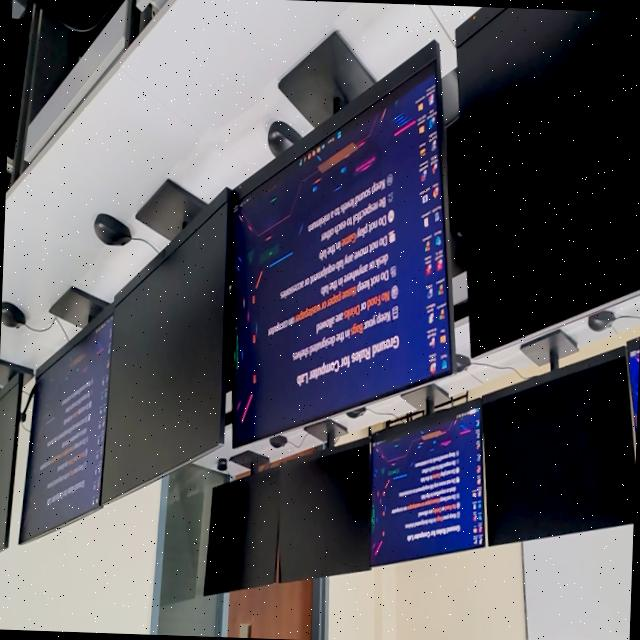Chair: (34, 0, 121, 30)
Monitor: (232, 44, 453, 446), (455, 5, 640, 355), (101, 193, 229, 502), (479, 346, 635, 544), (19, 314, 112, 541), (370, 404, 484, 565), (275, 438, 370, 581), (203, 465, 280, 594), (0, 376, 21, 551)
Mouse: (266, 120, 301, 156), (93, 213, 131, 245), (0, 301, 24, 327), (587, 310, 614, 330), (454, 354, 470, 371), (345, 406, 365, 418), (268, 434, 286, 447), (216, 457, 226, 470)
